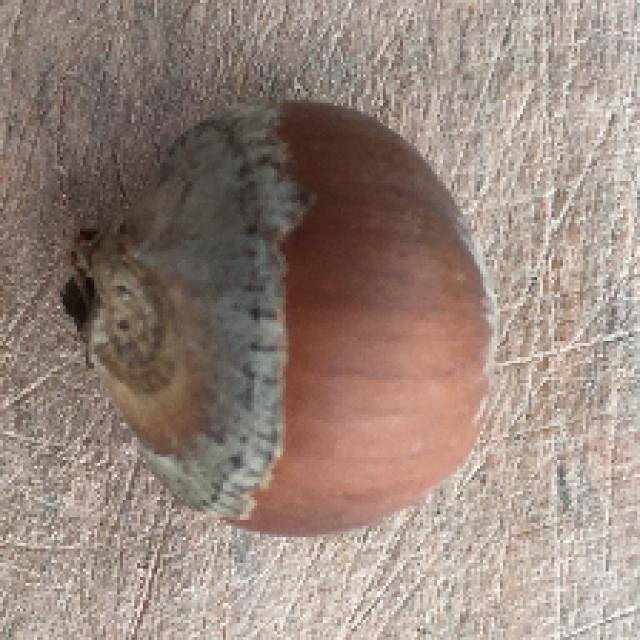damagedHazelnut: (66, 105, 510, 555)
